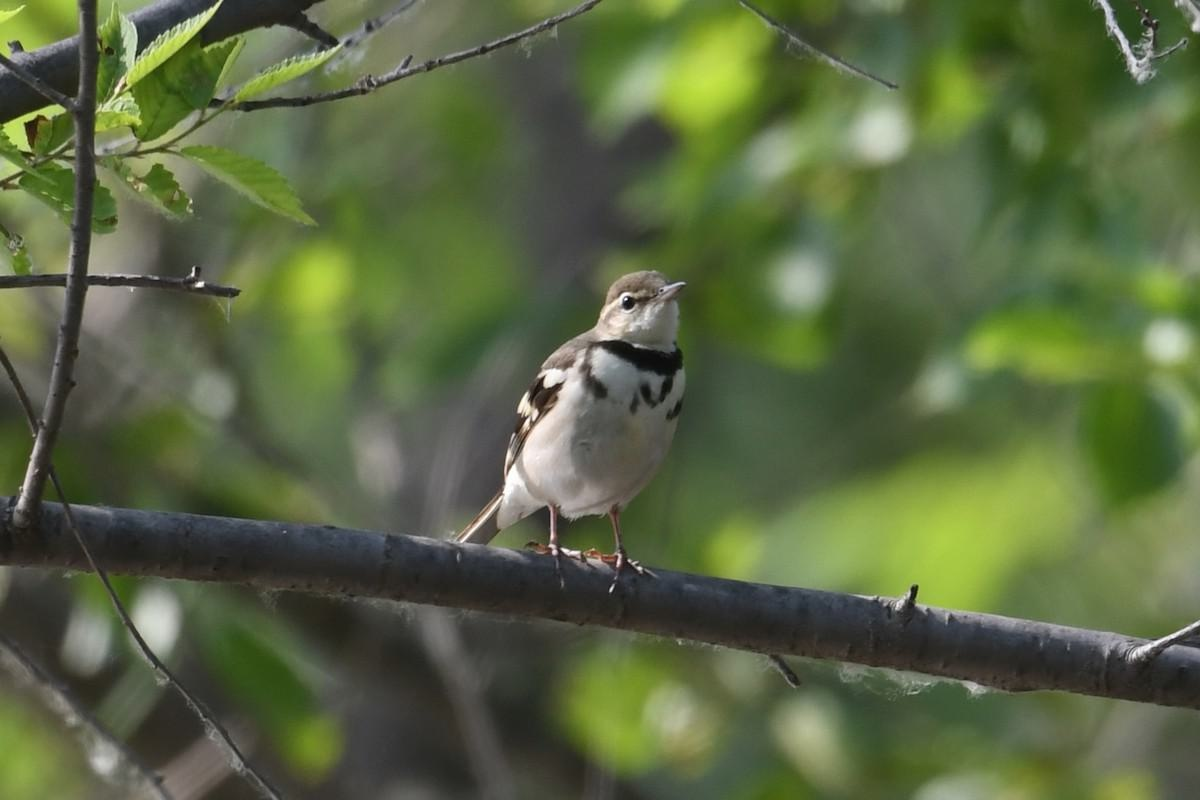wagtail: (438, 267, 729, 591)
